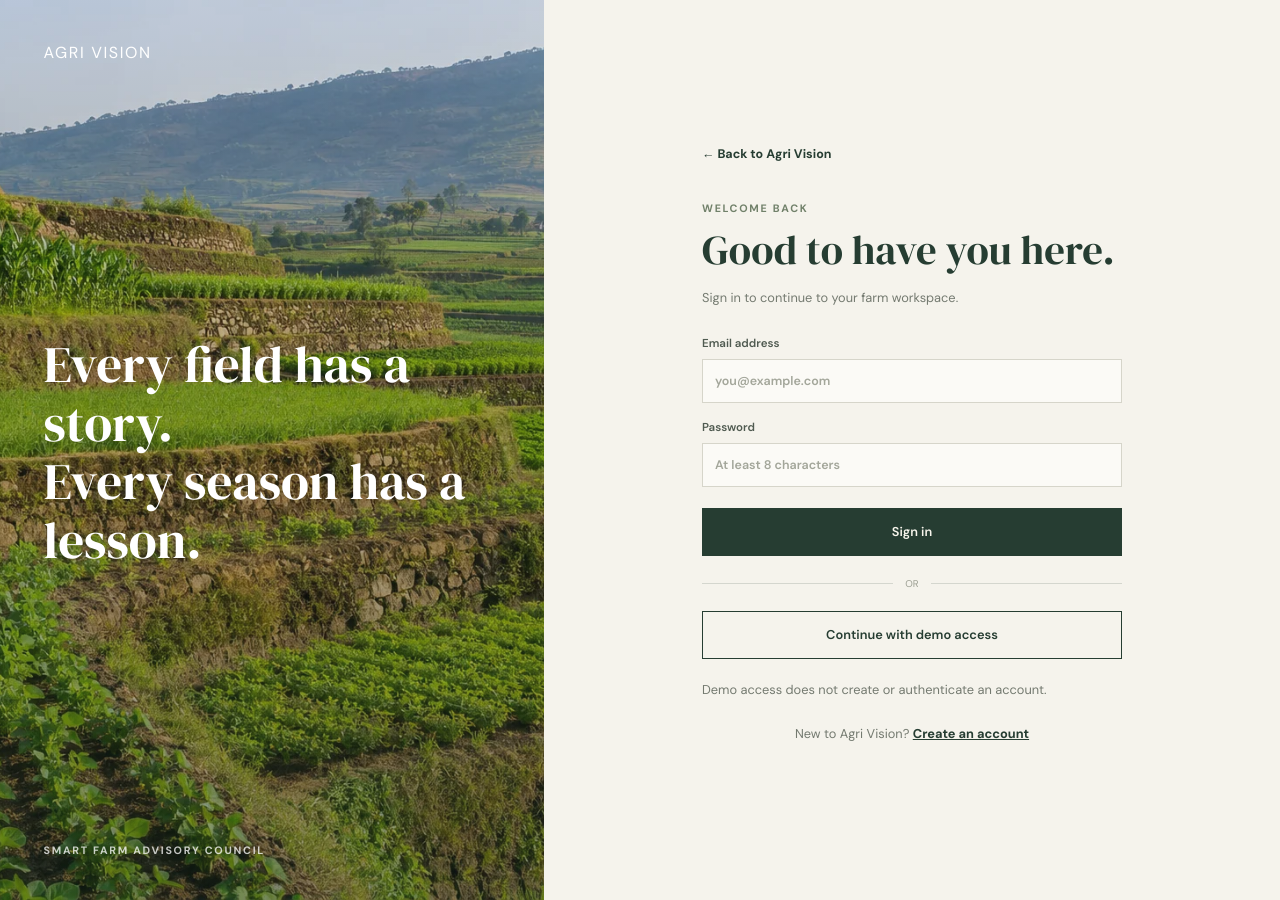
Test: Demo access and account registration UI › submits login and routes to the selected owned farm
Type "farmer@example.com" into the field labelled "Email address" at (912, 380), box [702,358,1122,402]
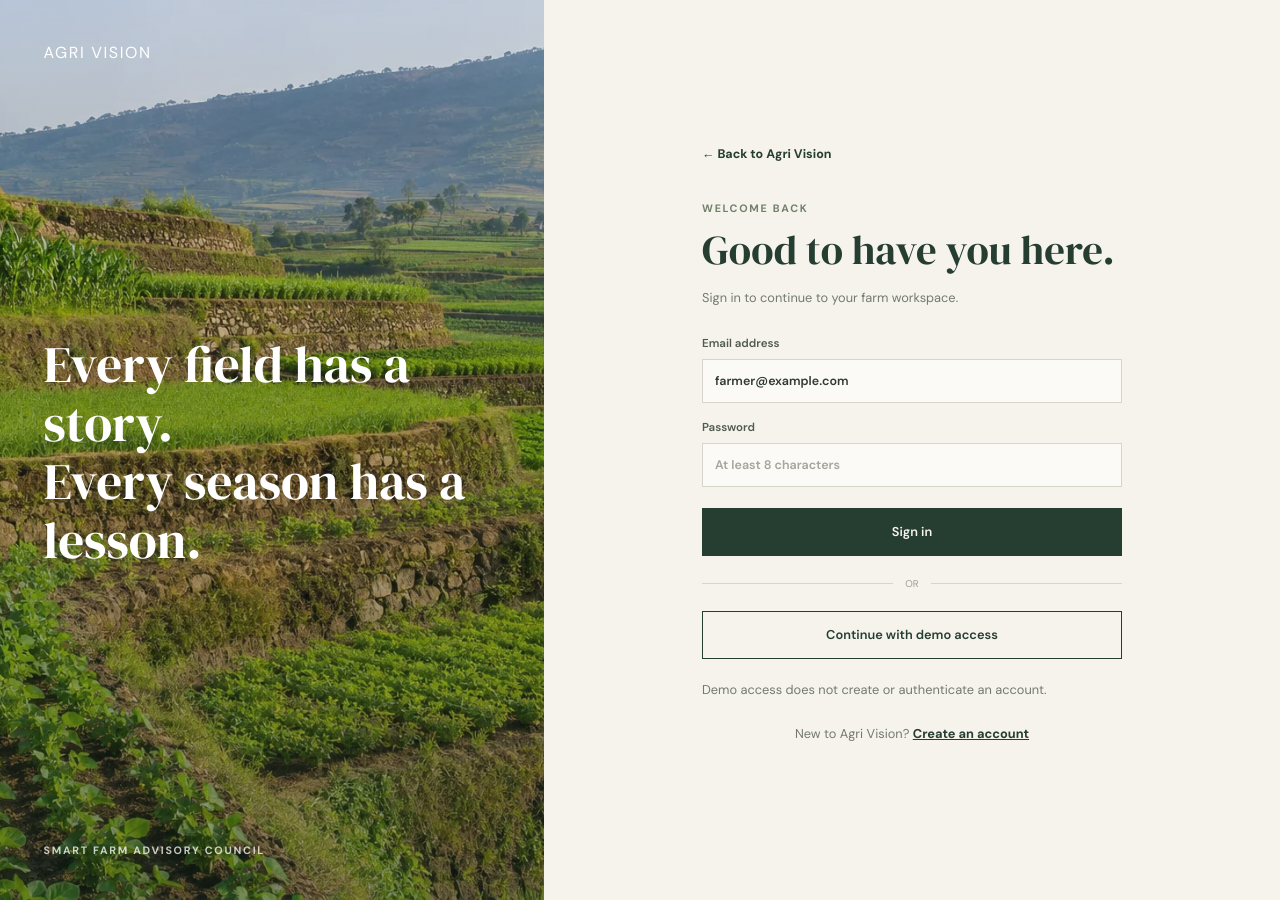
Type "a secure password" into the password field labelled "Password" at (912, 464), box [702,442,1122,486]
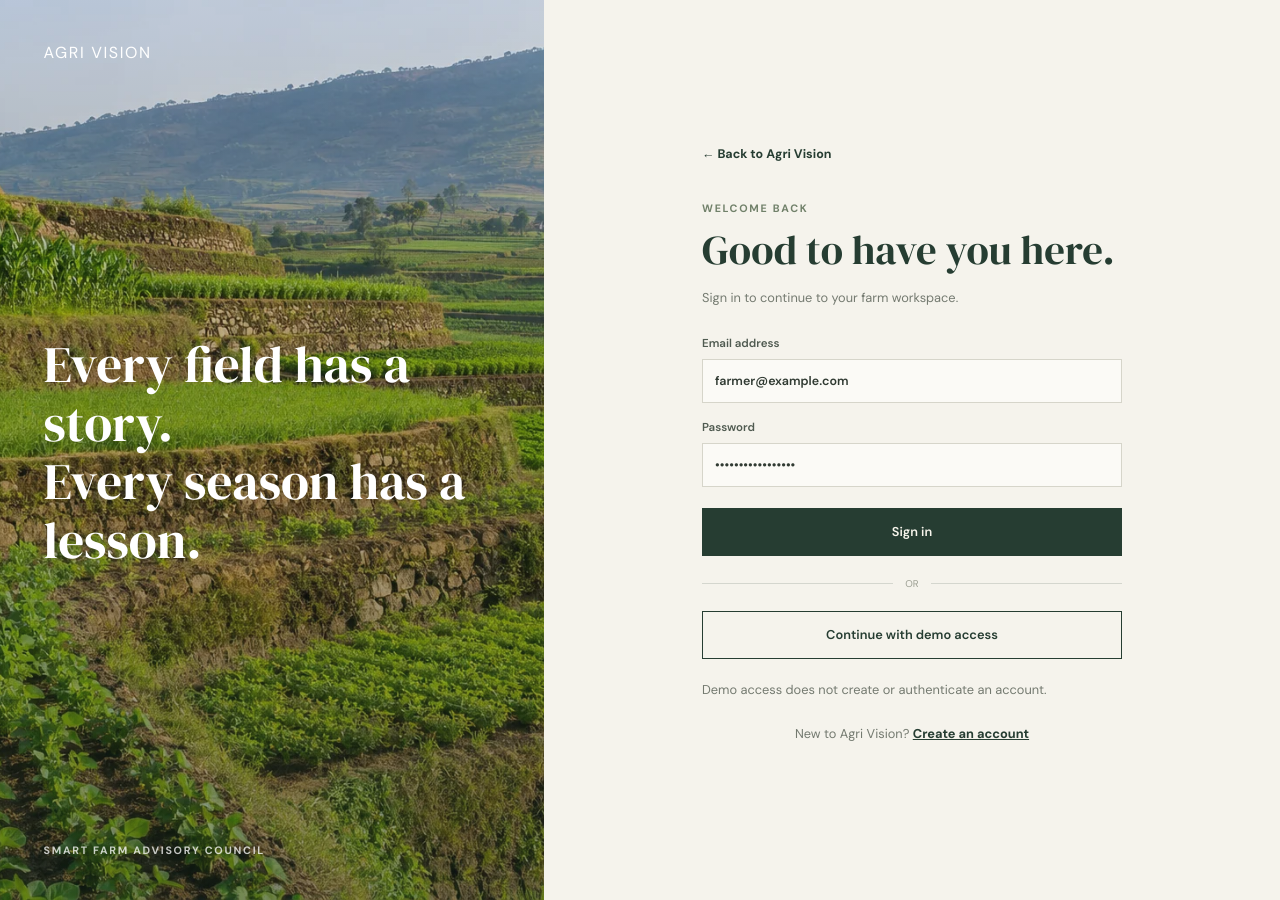
Click the button "Sign in" at (912, 532), box [702,508,1122,556]
(page scrolled)
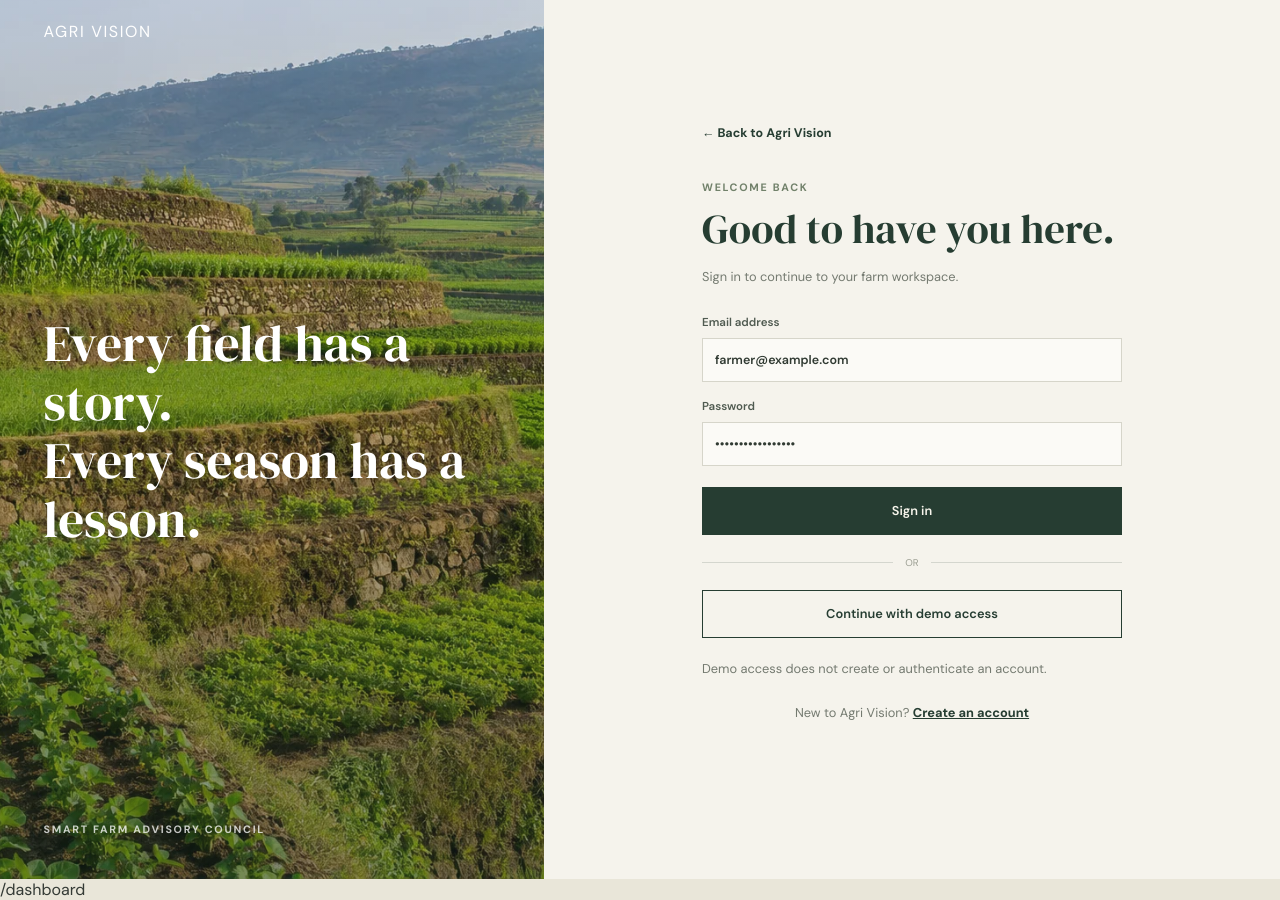
Now the text "/dashboard" is shown, box [0,879,85,899]
